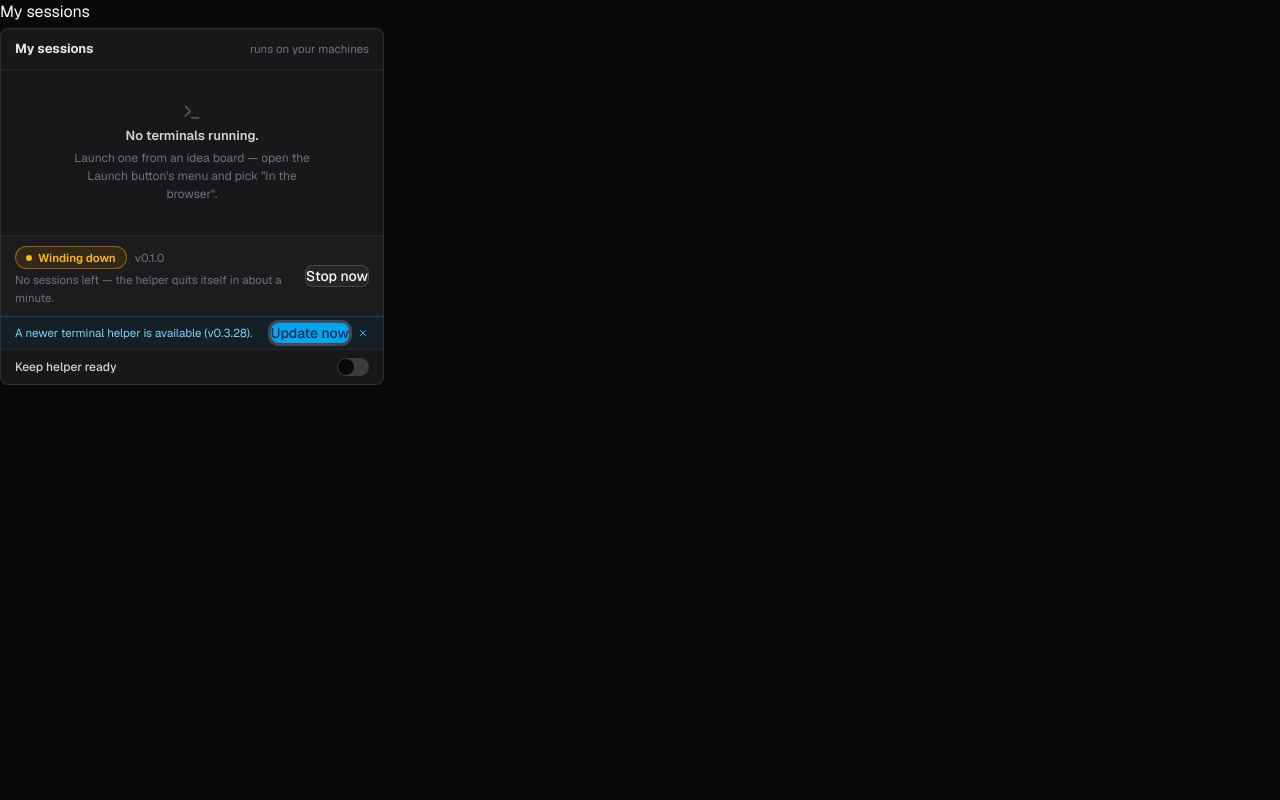
Test case: TerminalMySessionsPanel — Update now (shared quiesce-then-download flow) › a stale 'Ready to update' notice is cleared the next time the popover opens
This screenshot has width=1280, height=800.
Click the button "Update now" at (310, 333), box [271, 323, 349, 343]
Wait 500 ms
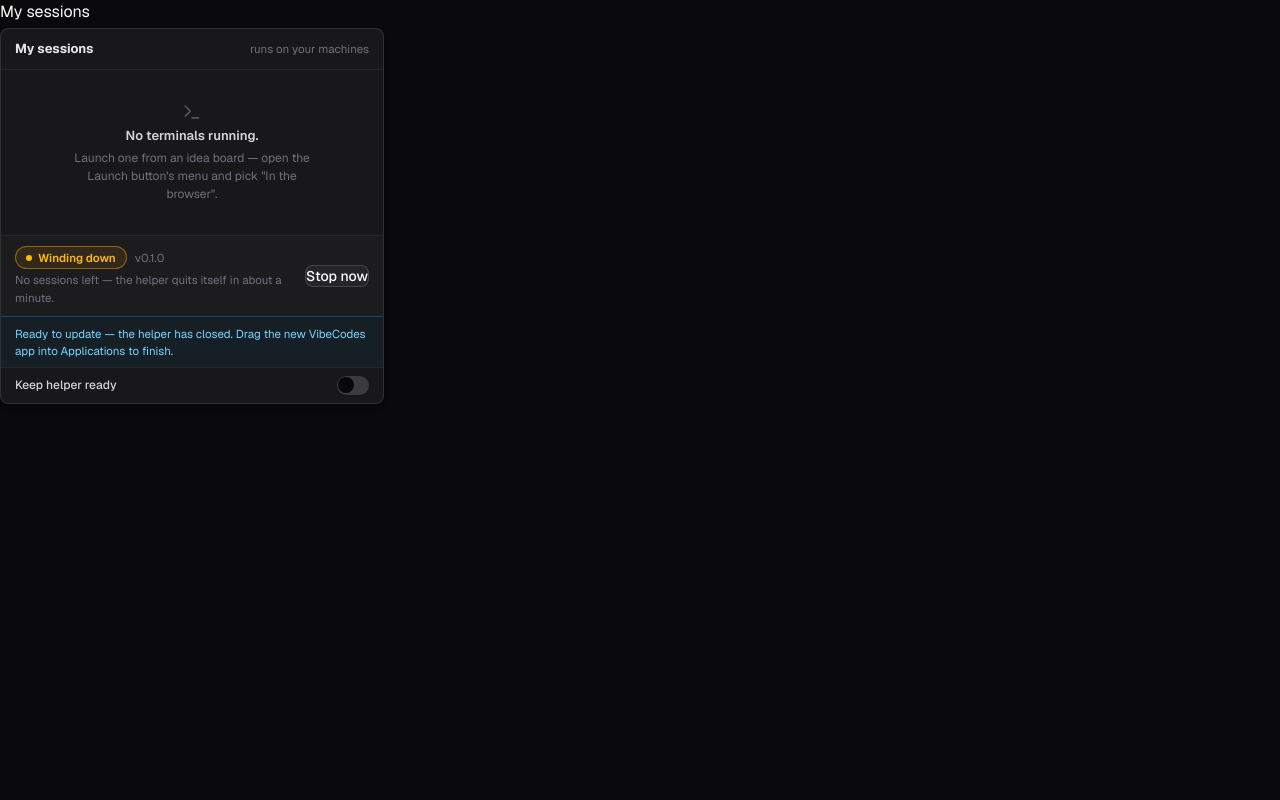
Expected: the text "Ready to update" is shown, [15, 326, 366, 358]
